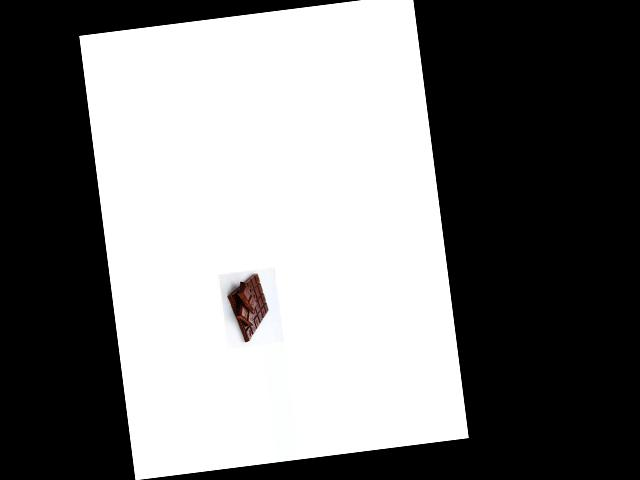chocolate: (222, 271, 275, 344)
